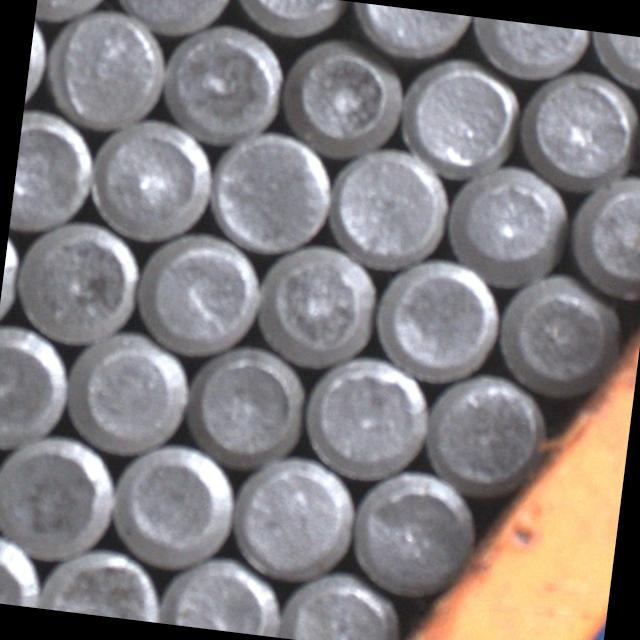tool: (345, 462, 483, 602), (5, 214, 144, 352), (81, 112, 220, 248), (297, 350, 435, 486), (202, 123, 338, 260), (129, 226, 266, 361), (370, 250, 507, 385), (227, 448, 361, 586), (62, 326, 196, 462), (106, 436, 240, 572), (154, 17, 288, 152), (492, 264, 624, 400), (251, 235, 382, 372), (41, 0, 172, 136), (324, 140, 456, 274), (441, 156, 574, 288), (276, 31, 410, 160), (418, 367, 550, 497), (180, 338, 310, 470), (394, 52, 524, 183), (0, 427, 121, 566), (516, 63, 640, 193), (9, 107, 100, 237), (161, 550, 286, 638), (38, 542, 166, 622), (566, 166, 640, 299), (0, 322, 73, 453), (278, 564, 403, 640), (466, 16, 592, 86), (345, 1, 472, 66), (106, 0, 234, 41)
